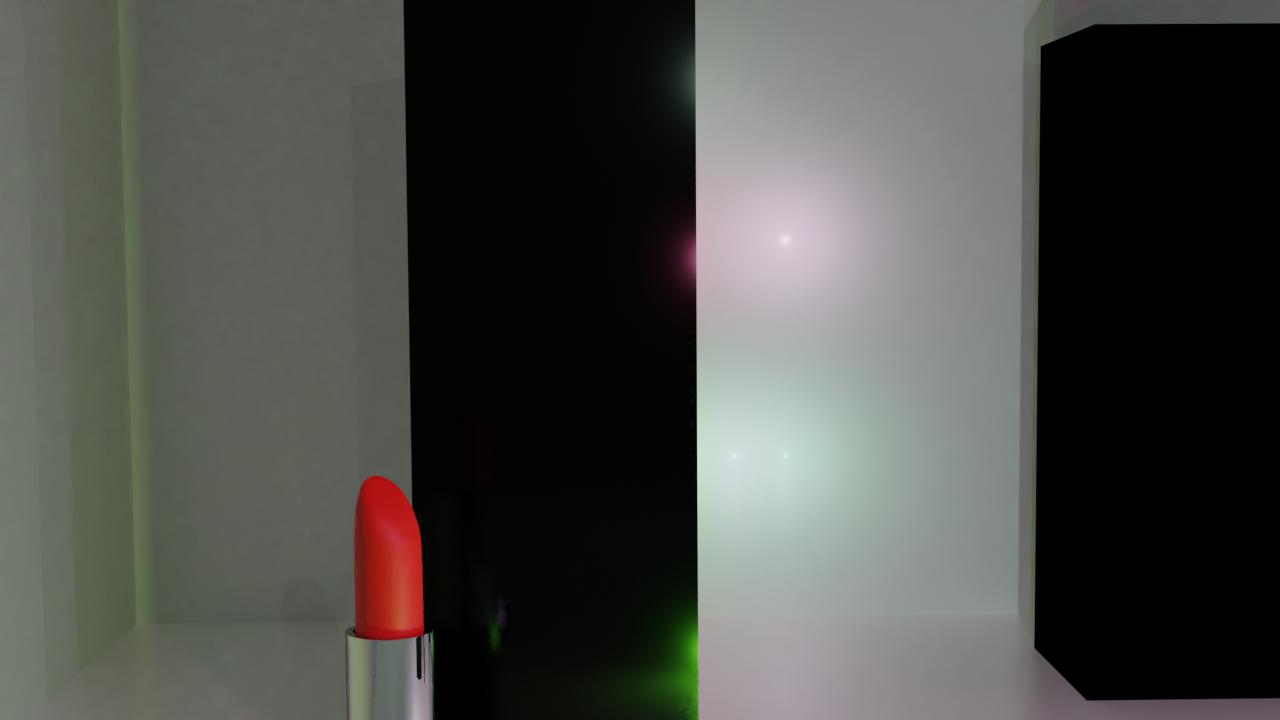CLASSIFIER_NAME: (340, 469, 447, 720)
